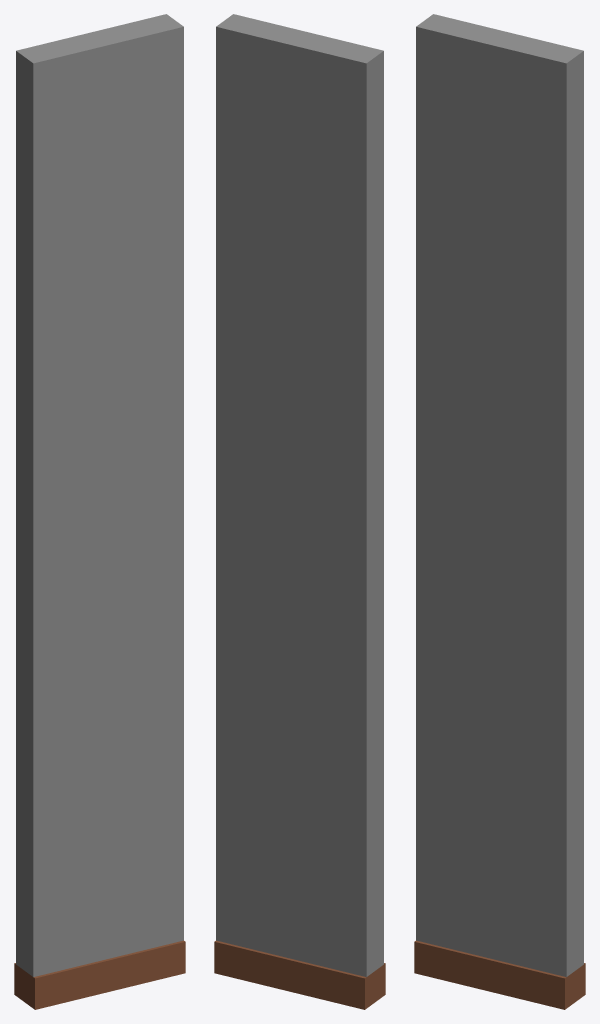
The model's file is Mur01_t2.FBX.
3 renders of one model, left to right at view 1: azimuth 30°, elevation 25°; view 2: azimuth 150°, elevation 25°; view 3: azimuth 330°, elevation 25°, orthographic.
Visible parts, largest first — view 1: mur 50; view 2: mur 50; view 3: mur 50.
Boxes of the visible parts, <box> form: mur 50: <box>14,14,185,1009</box>; mur 50: <box>214,14,385,1009</box>; mur 50: <box>414,14,585,1009</box>.
Bounding box in the file's own units: 50 × 300 × 12.
